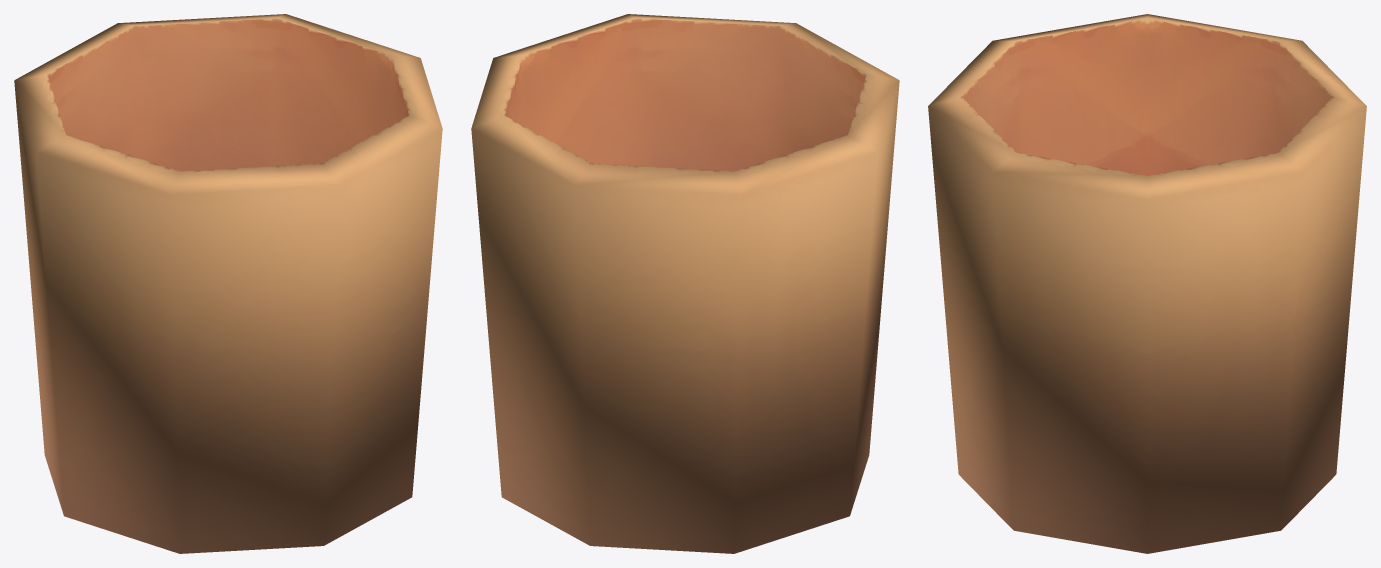
File: pot.fbx
3 renders of one model, left to right at view 1: azimuth 30°, elevation 25°; view 2: azimuth 150°, elevation 25°; view 3: azimuth 270°, elevation 25°, orthographic.
Visible parts, largest first — view 1: pot; view 2: pot; view 3: pot.
Part boxes in pixels (box(x1,y1,x2,y2)): pot: box(14, 14, 442, 553); pot: box(471, 14, 899, 553); pot: box(928, 14, 1366, 553).
Bounding box in the file's own units: 20.97 × 19.87 × 20.93.
